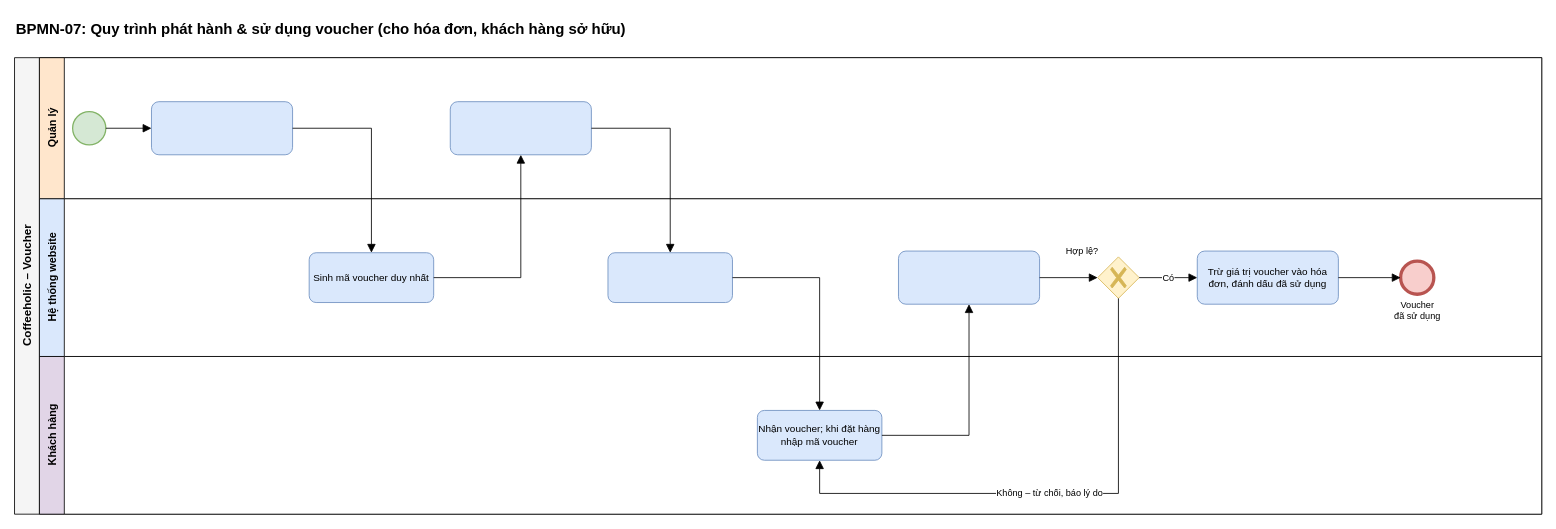
This 1556x529 diagram has some shape labels left out. The centre of each missing label's shape, as x and y in pixels:
Cần phát hành voucher: the point at 89,128
Gán voucher cho khách hàng (chọn khách / nhóm khách hàng): the point at 520,128
Kiểm tra: đúng chủ sở hữu, chưa dùng, còn hạn, đủ điều kiện: the point at 969,277
Lưu voucher thuộc khách hàng & gửi thông báo: the point at 669,277
Tạo voucher: giá trị giảm, điều kiện áp dụng, thời hạn: the point at 222,128
